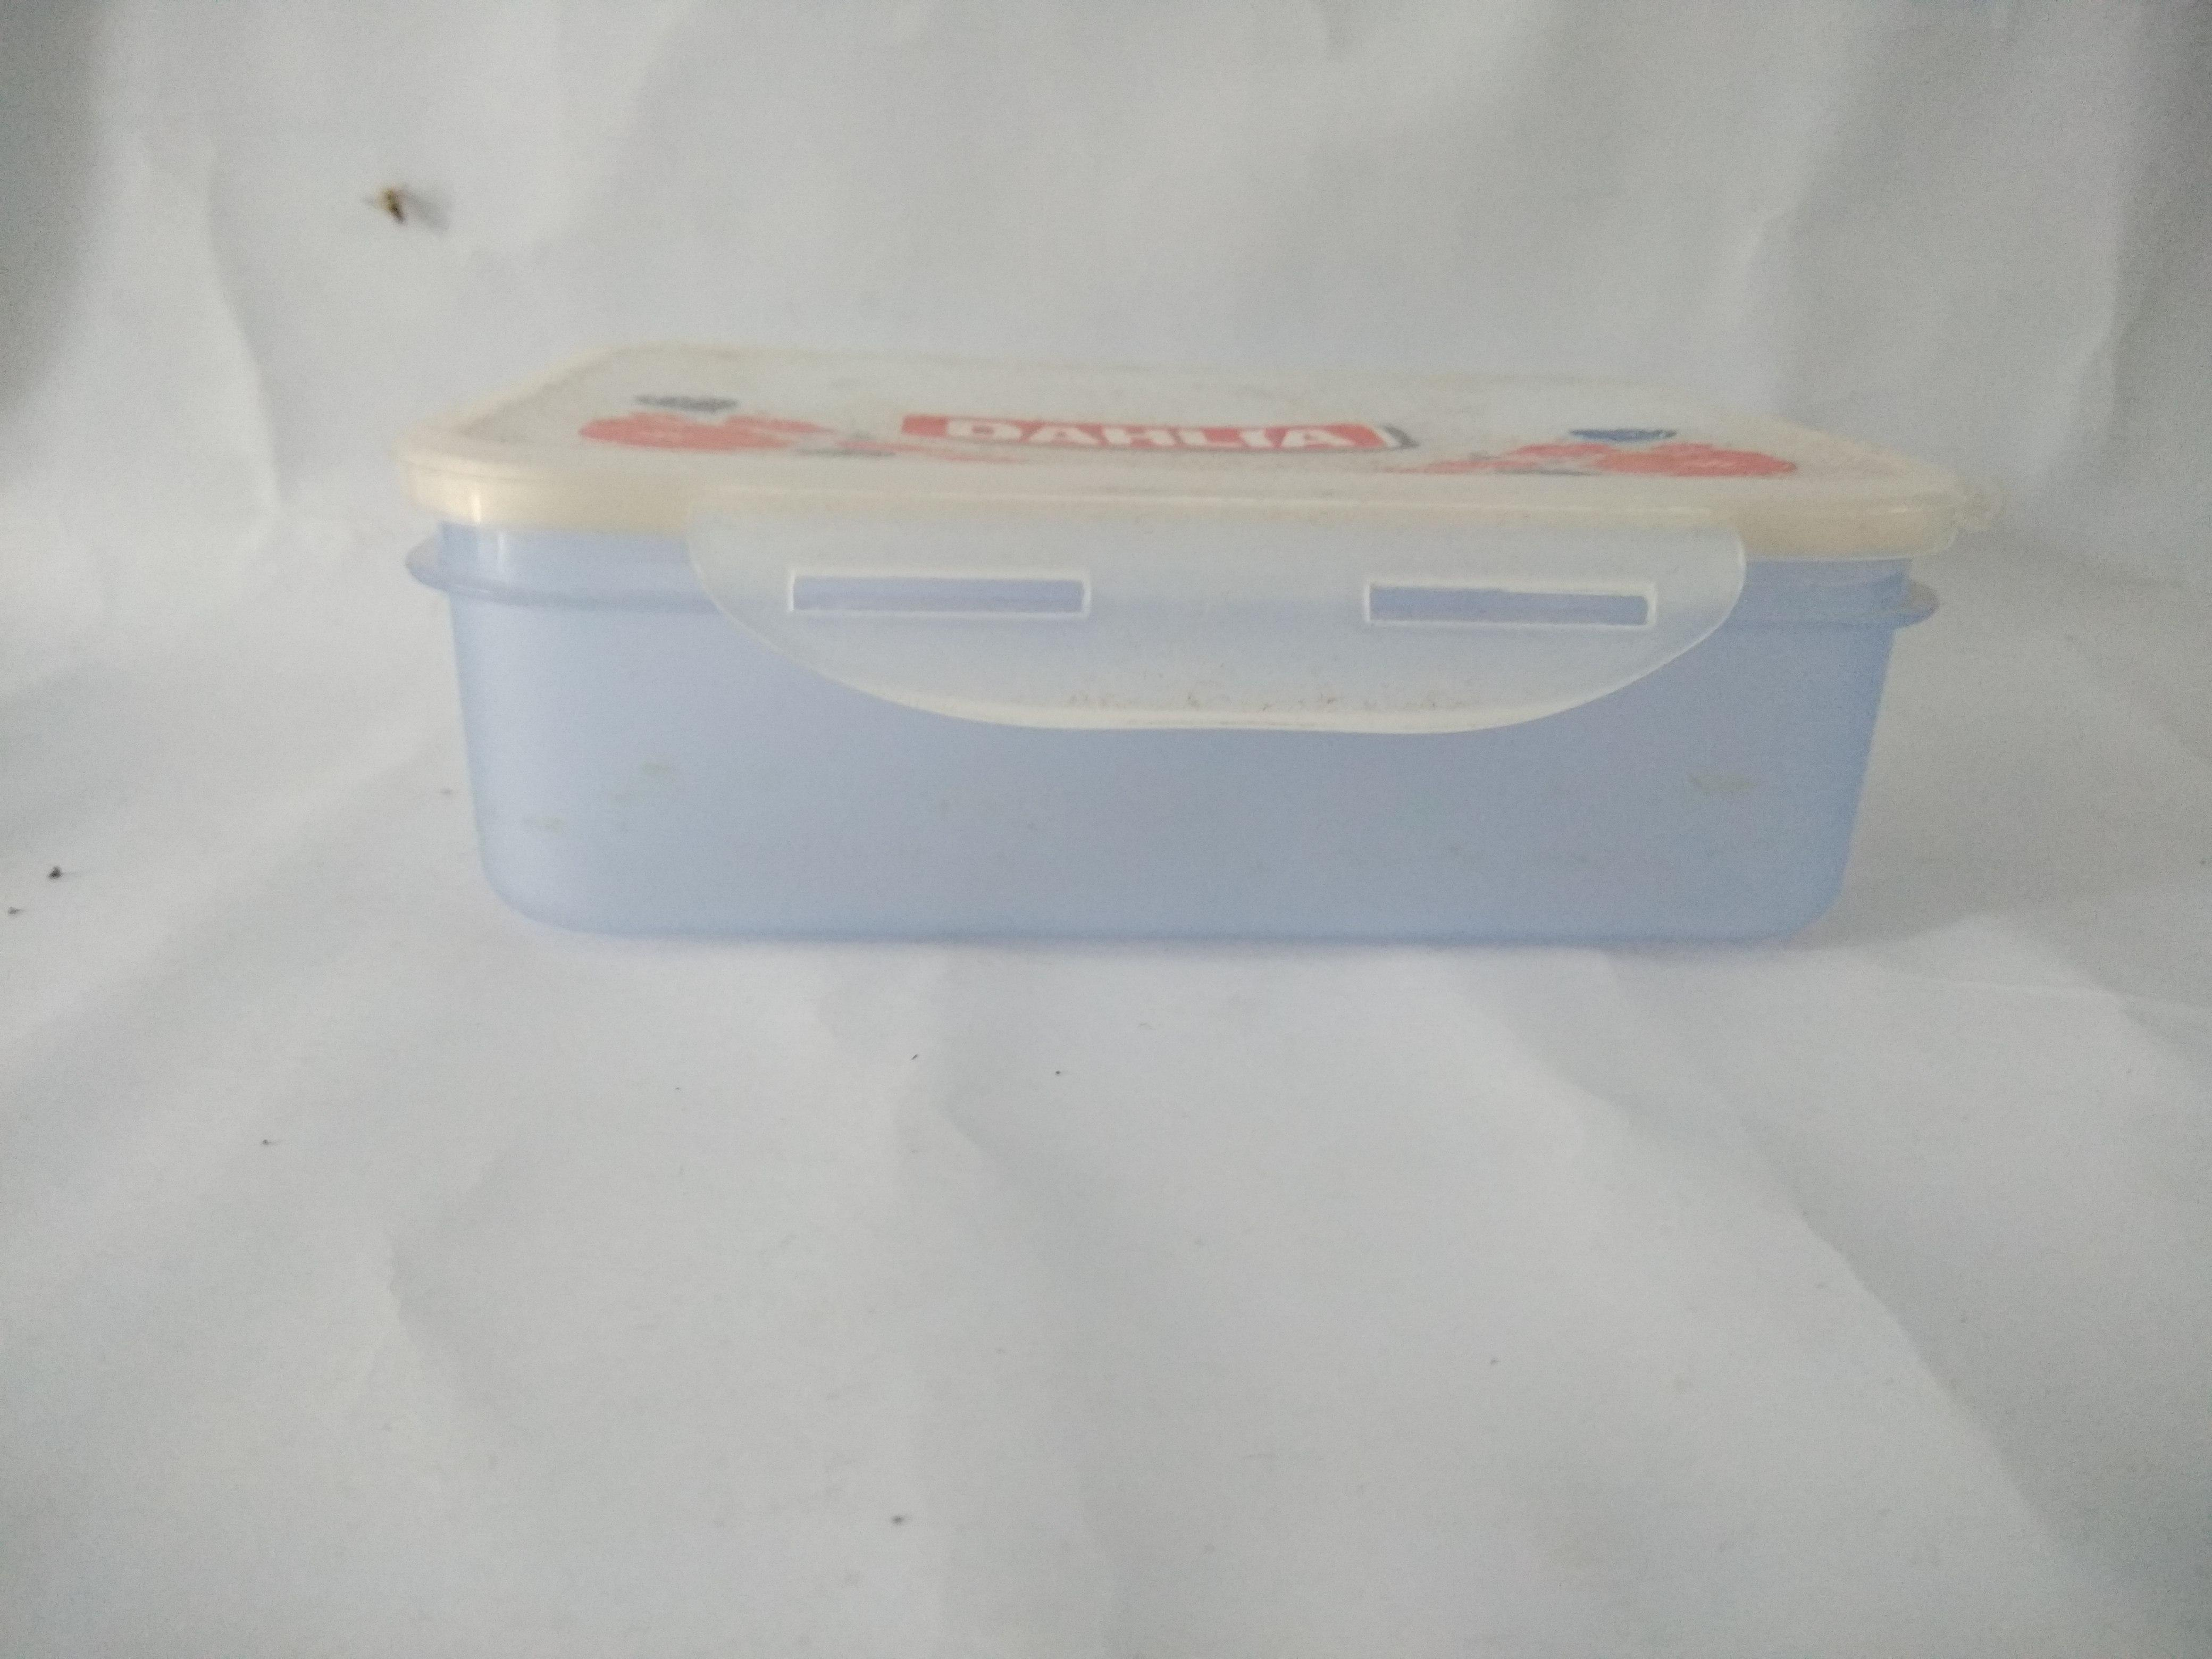PP: (399, 324, 1951, 953)
